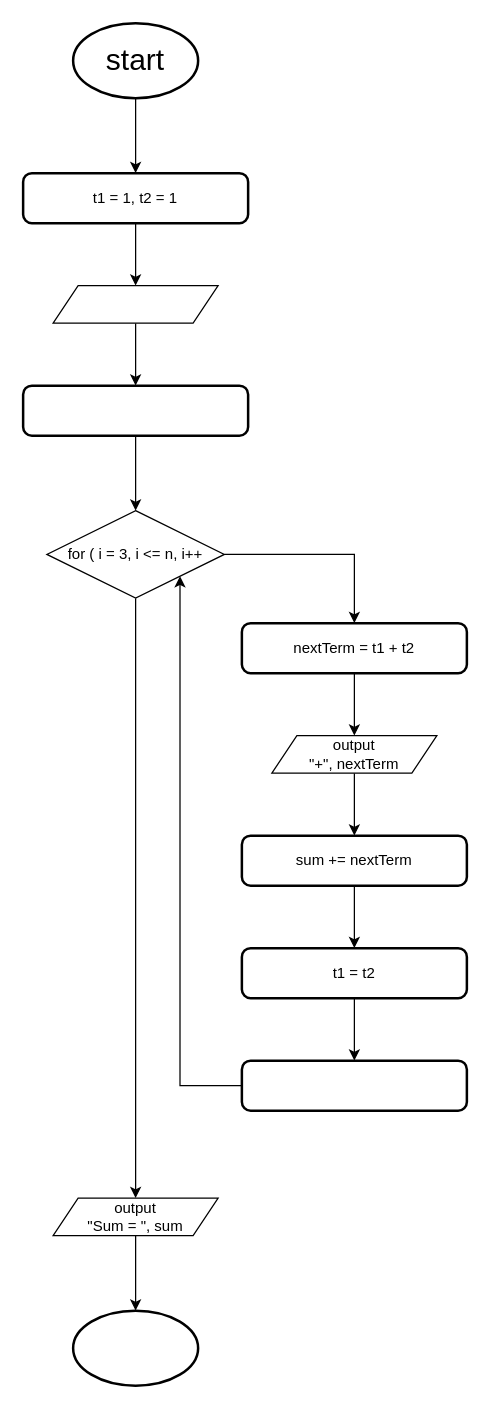
Some shapes in this 489 by 1408 pixel diagram are drawn without their labels. The shapes that lost their labels are listed below. From the top down, each one's centre as x and y in pixels, then its label:
the point at 135,303: input n
the point at 135,410: sum = t1 + t2
the point at 354,1085: t2 = nextTerm
the point at 135,1347: end
